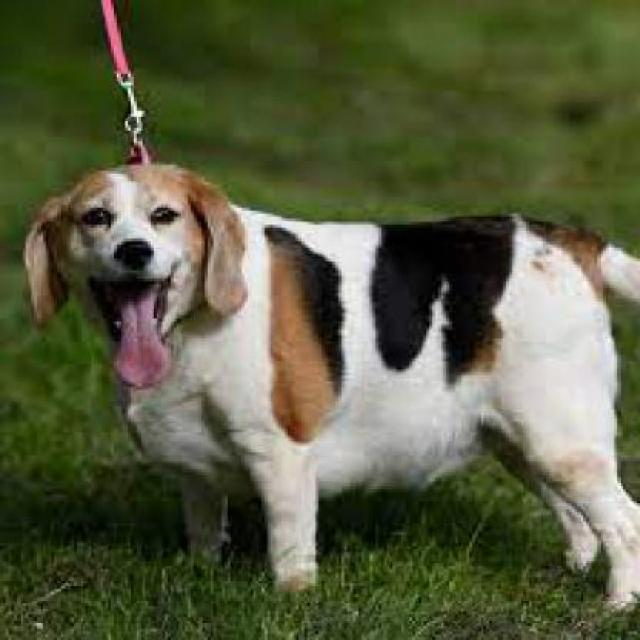Dog: (23, 165, 637, 609)
